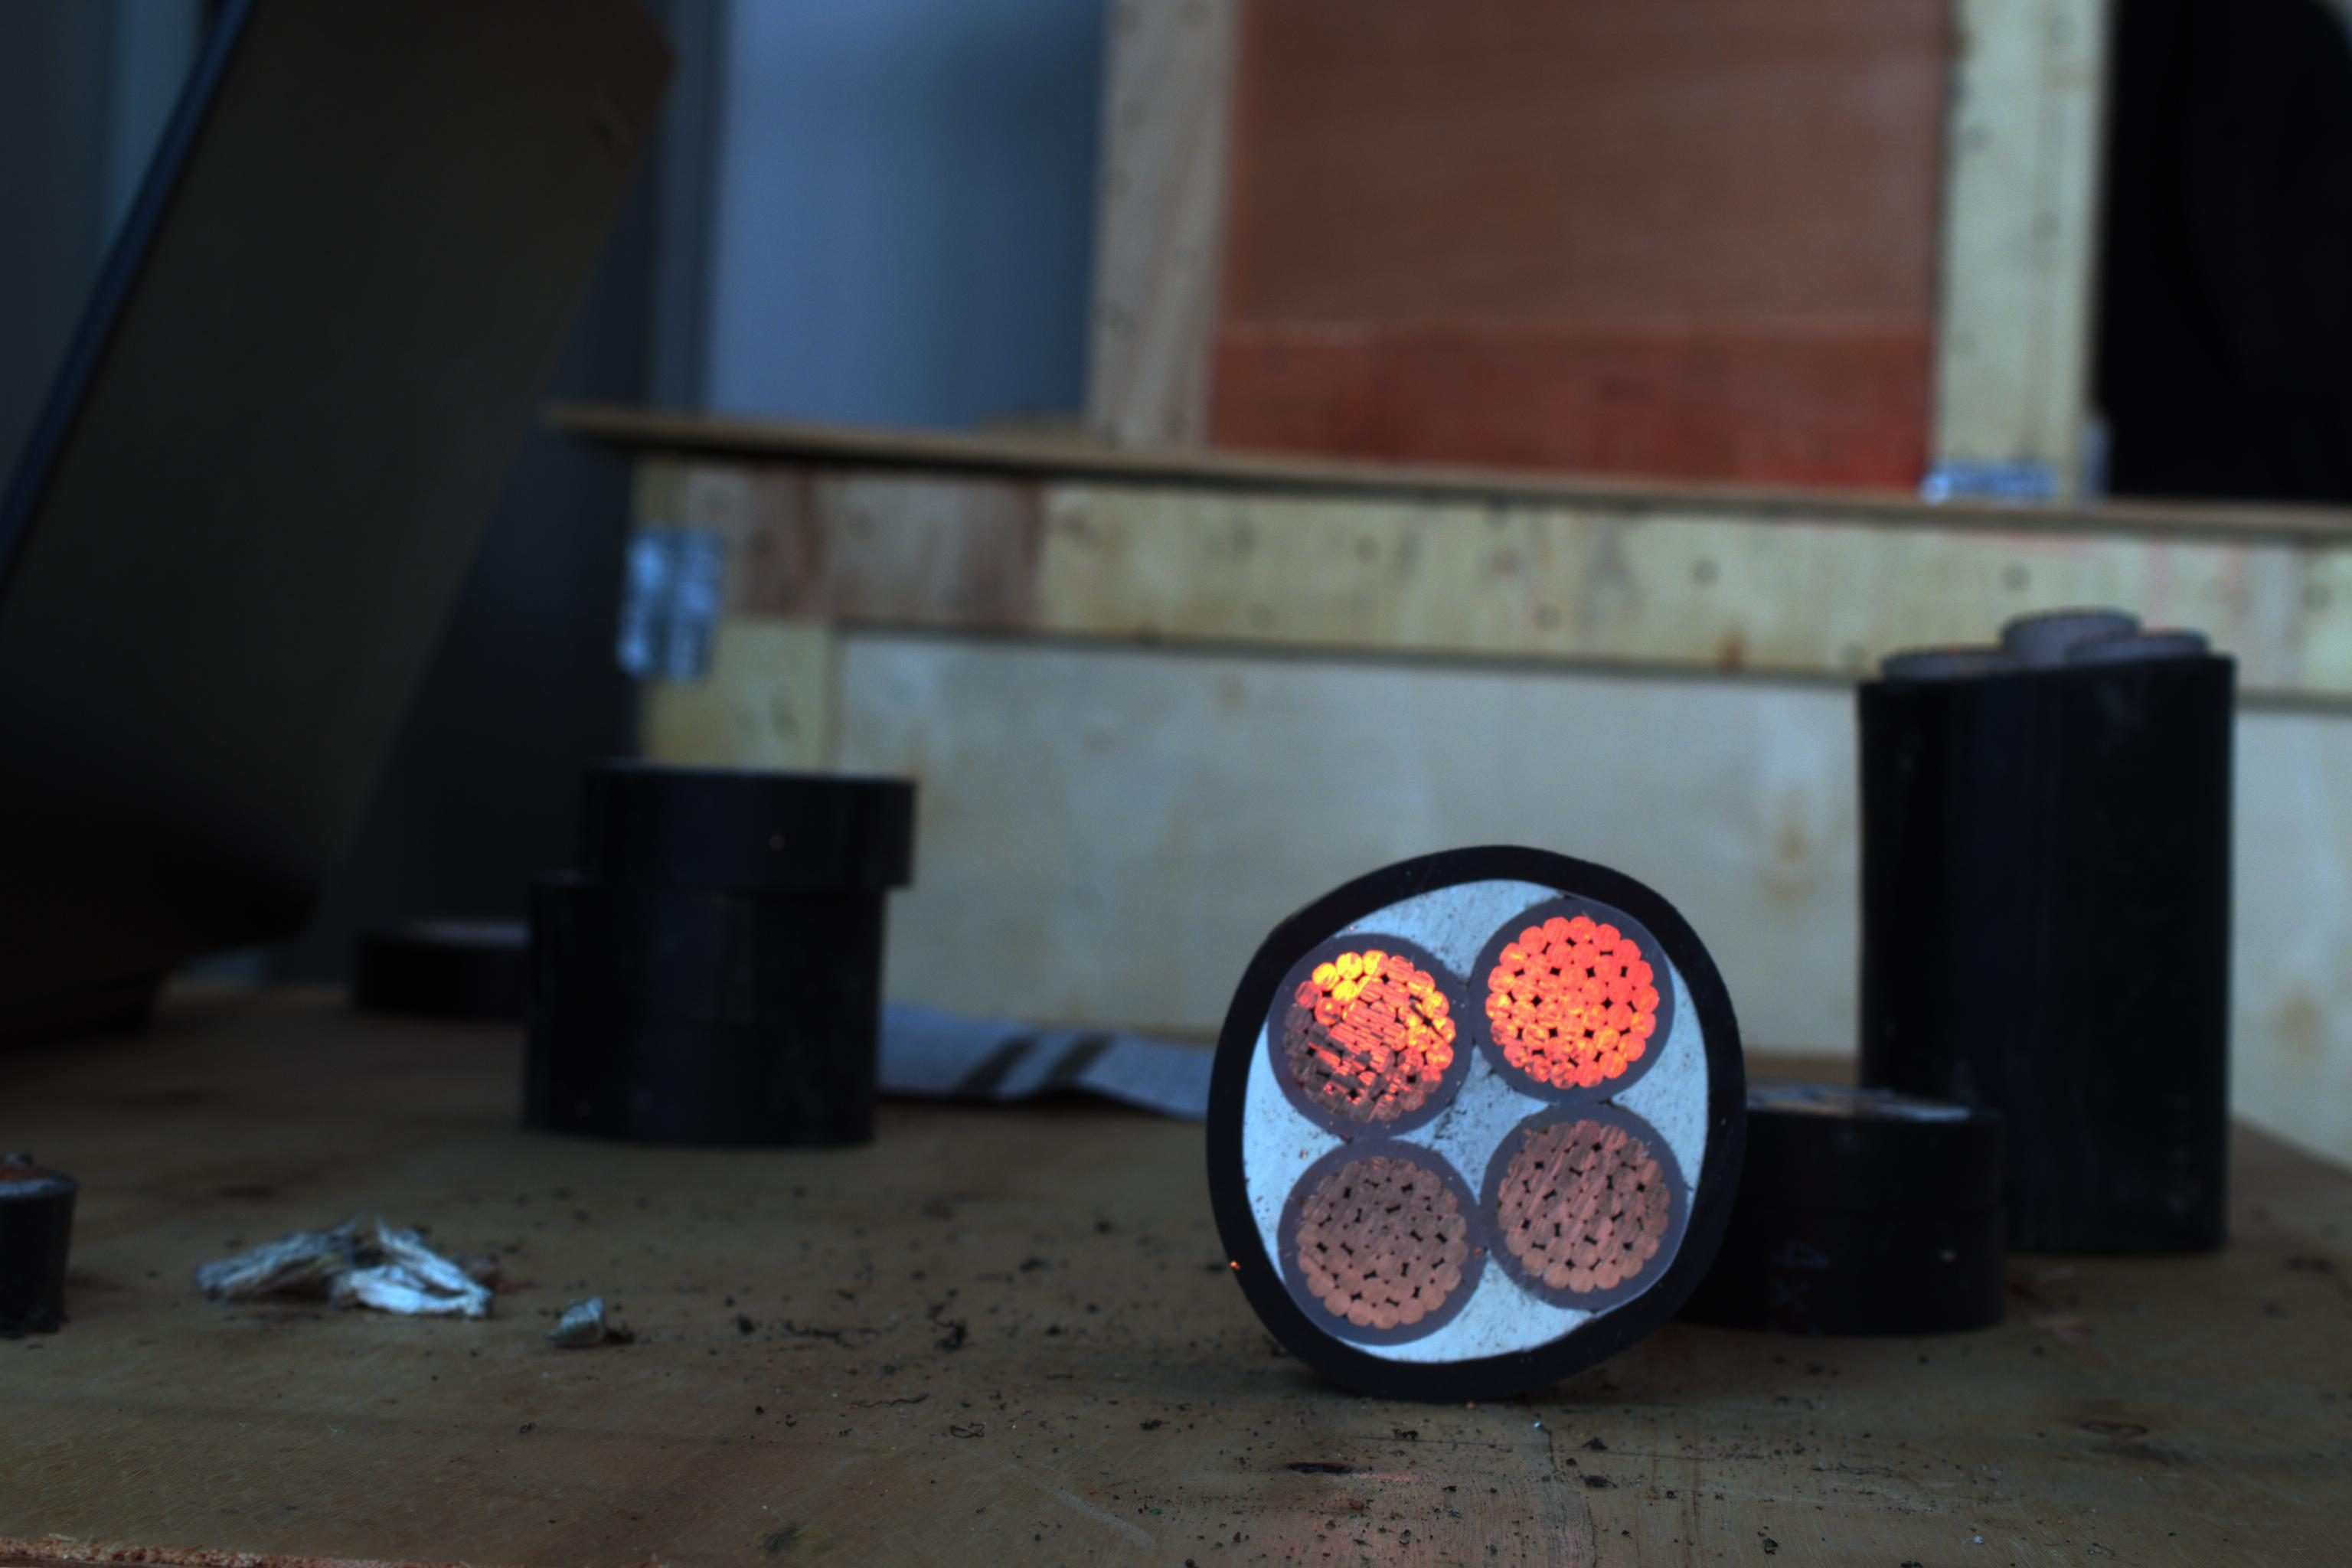YJV_0.6_1kV_4x240: (1192, 821, 1783, 1393)
